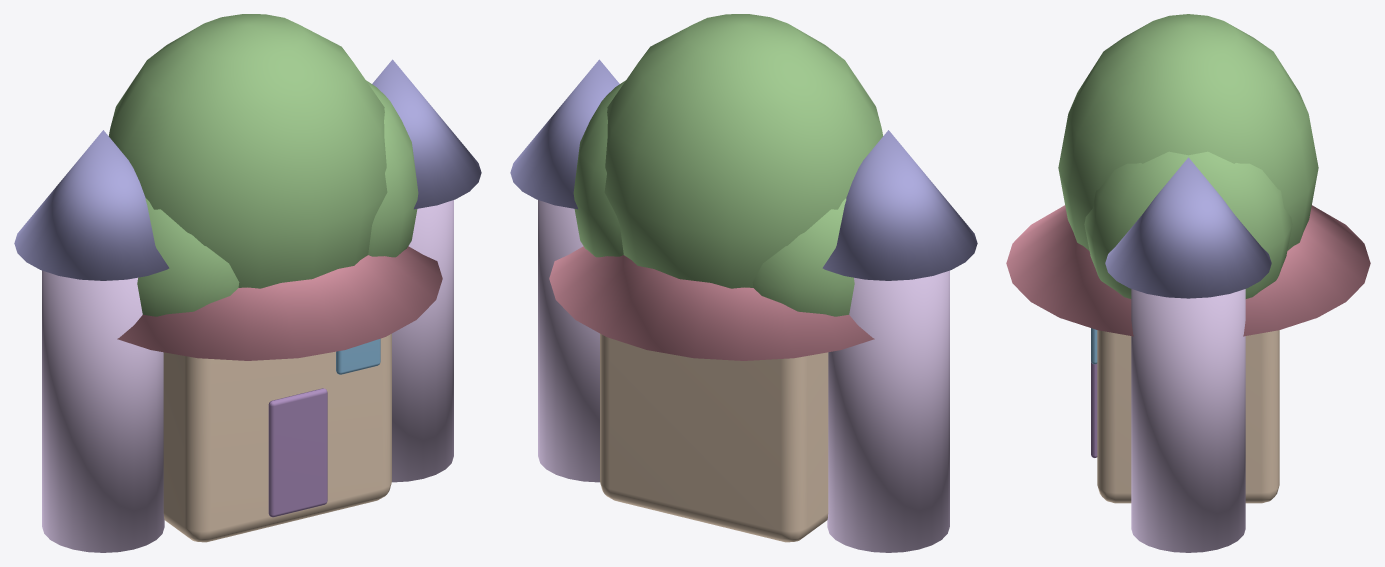
File: toybox.glb
3 views of the same model, side by side, from view 1: azimuth 30°, elevation 25°; view 2: azimuth 150°, elevation 25°; view 3: azimuth 270°, elevation 25° (orthographic). The views are drawn at different scales.
Visible parts, largest first — view 1: castle, tree; view 2: castle, tree; view 3: castle, tree.
Boxes of the visible parts, <box> form: castle: <box>14,59,481,552</box>; tree: <box>109,14,418,316</box>; castle: <box>510,59,977,552</box>; tree: <box>573,14,882,316</box>; castle: <box>1006,157,1370,552</box>; tree: <box>1058,14,1318,298</box>.
Size of the model in its own units: 1.84 by 1.99 by 1.4.
